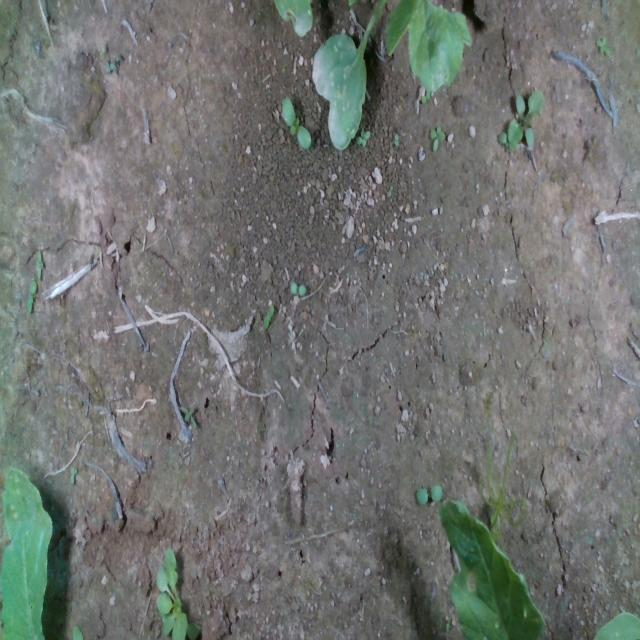weed: (280, 96, 312, 149), (415, 484, 443, 505), (429, 122, 445, 152), (178, 403, 196, 428), (262, 302, 274, 330), (594, 35, 610, 55), (355, 127, 370, 148), (35, 245, 44, 279), (290, 281, 306, 295), (393, 132, 399, 146)
